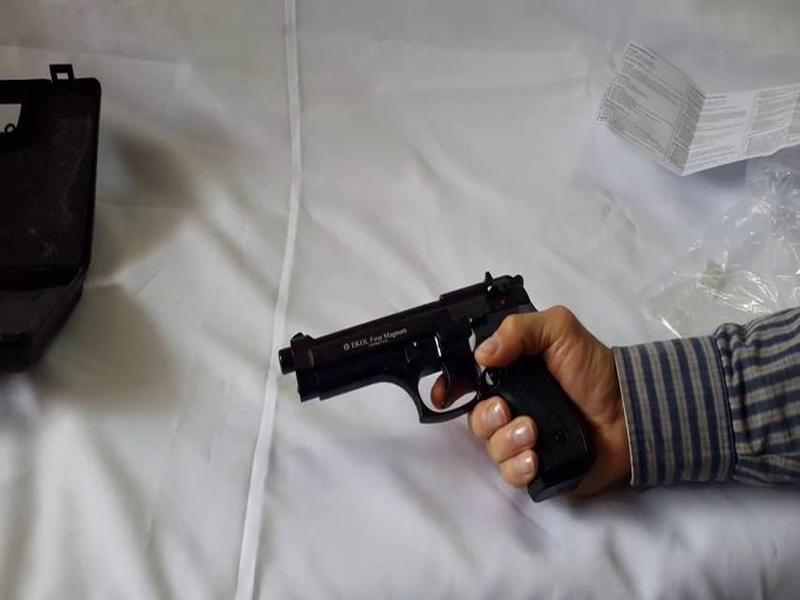Pistola: (271, 254, 577, 484)
